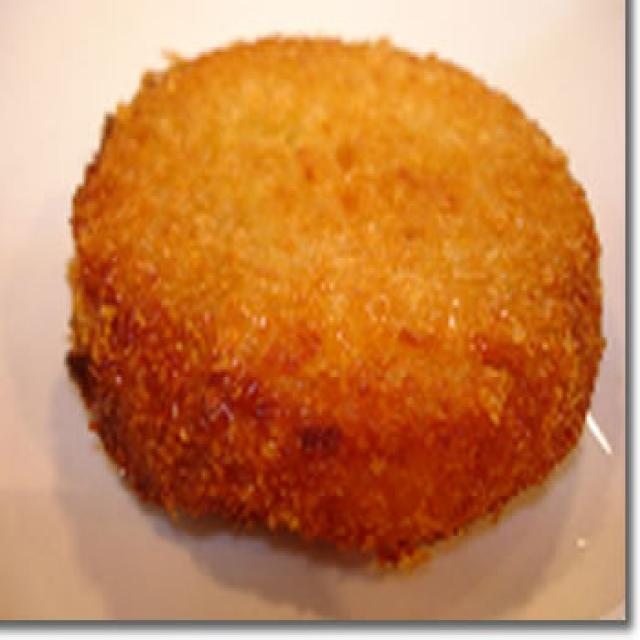炸货点心: (64, 28, 614, 576)
